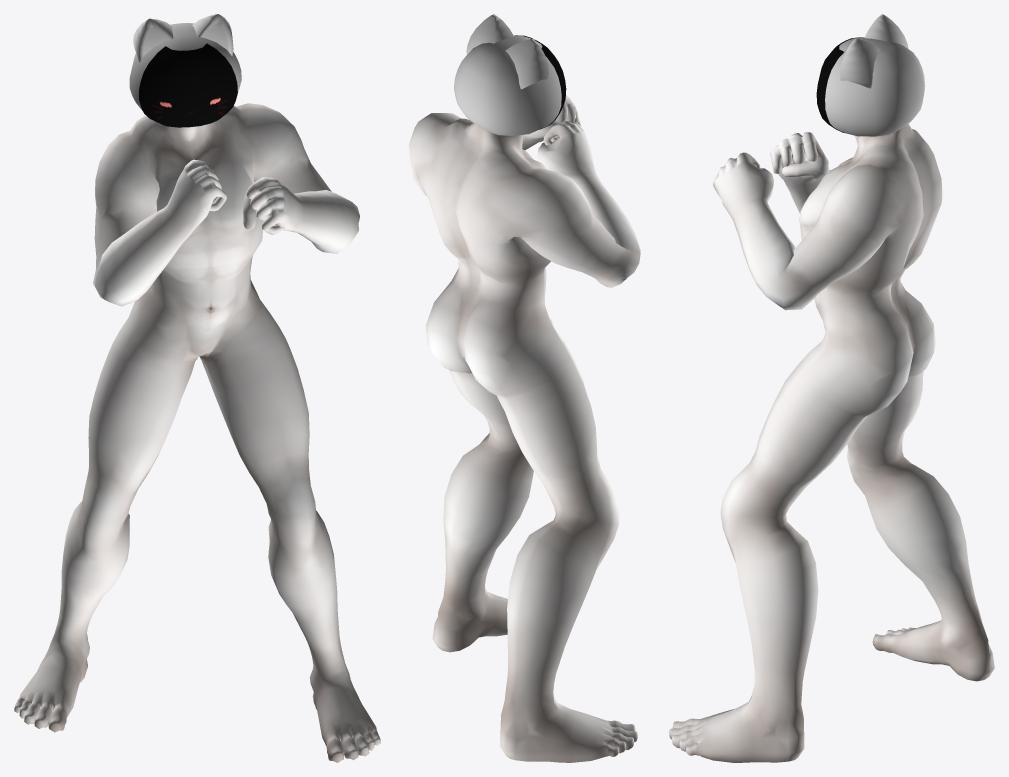
The picture shows the model from 3 angles, left to right: view 1: azimuth 30°, elevation 25°; view 2: azimuth 150°, elevation 25°; view 3: azimuth 270°, elevation 25°; orthographic projection.
Parts seen in each view (by area): view 1: Muscle_Body, ______?001, Cat_Head; view 2: Muscle_Body, Cat_Head, ______?001; view 3: Muscle_Body, Cat_Head, ______?001.
Part boxes in pixels (x1=…): Muscle_Body: x1=14, y1=103, x2=380, y2=762; ______?001: x1=139, y1=43, x2=237, y2=127; Cat_Head: x1=129, y1=14, x2=241, y2=110; Muscle_Body: x1=409, y1=95, x2=640, y2=762; Cat_Head: x1=454, y1=14, x2=561, y2=135; ______?001: x1=515, y1=35, x2=566, y2=129; Muscle_Body: x1=669, y1=124, x2=994, y2=762; Cat_Head: x1=825, y1=14, x2=925, y2=136; ______?001: x1=816, y1=37, x2=860, y2=132.
Bounding box in the file's own units: 11.58 × 28.07 × 12.14.
